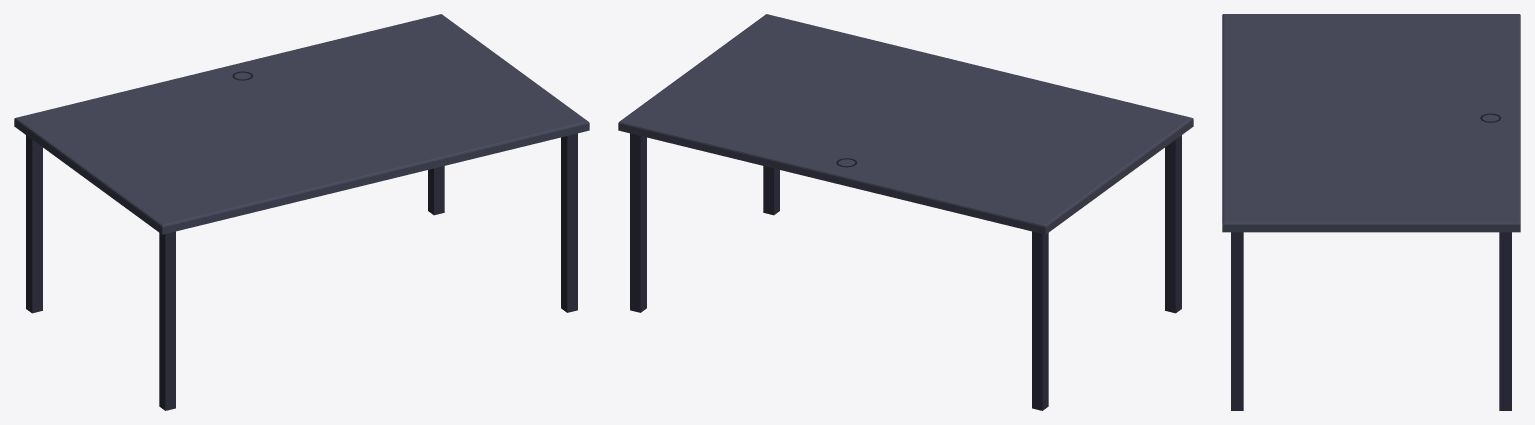
Rendered from desk.glb.
The picture shows the model from 3 angles, left to right: view 1: azimuth 30°, elevation 25°; view 2: azimuth 150°, elevation 25°; view 3: azimuth 270°, elevation 25°; orthographic projection.
Parts seen in each view (by area): view 1: top_surface, leg_fl, leg_fr, leg_bl, leg_br; view 2: top_surface, leg_bl, leg_br, leg_fl, leg_fr; view 3: top_surface, leg_fr, leg_br.
Part boxes in pixels (<box>): top_surface: <box>14,14,589,234</box>; leg_fl: <box>159,231,175,410</box>; leg_fr: <box>561,133,577,312</box>; leg_bl: <box>26,135,42,313</box>; leg_br: <box>428,166,444,215</box>; top_surface: <box>618,14,1193,234</box>; leg_bl: <box>1032,231,1048,410</box>; leg_br: <box>630,133,646,312</box>; leg_fl: <box>1165,135,1181,313</box>; leg_fr: <box>763,166,779,215</box>; top_surface: <box>1222,14,1520,232</box>; leg_fr: <box>1231,232,1243,410</box>; leg_br: <box>1499,232,1511,410</box>.
Size of the model in its own units: 2 by 0.851 by 1.2.
